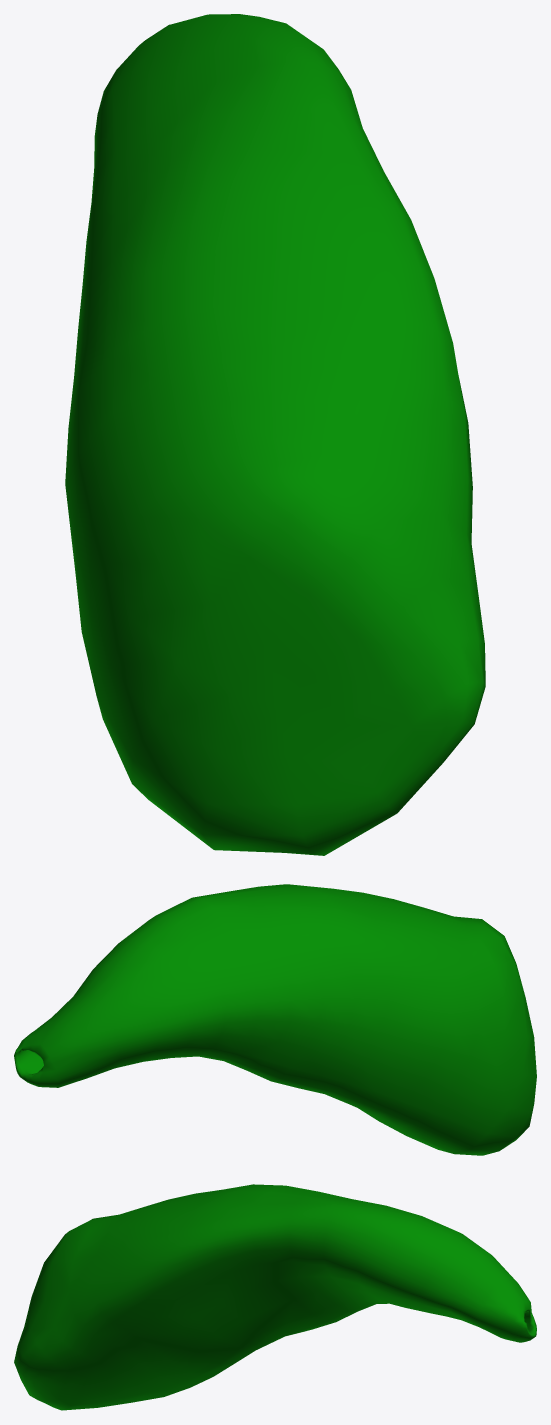
The model's file is gallbladder.glb.
3 renders of one model, top to bottom at view 1: azimuth 30°, elevation 25°; view 2: azimuth 150°, elevation 25°; view 3: azimuth 270°, elevation 25°, orthographic. The views are drawn at different scales.
Visible parts, largest first — view 1: VH_M_gallbladder; view 2: VH_M_gallbladder; view 3: VH_M_gallbladder.
Boxes of the visible parts, box(x1,y1,x2,y2) form: VH_M_gallbladder: box(65, 14, 485, 855); VH_M_gallbladder: box(14, 884, 536, 1155); VH_M_gallbladder: box(14, 1184, 536, 1410).
Size of the model in its own units: 0.0424 by 0.0417 by 0.0728.
